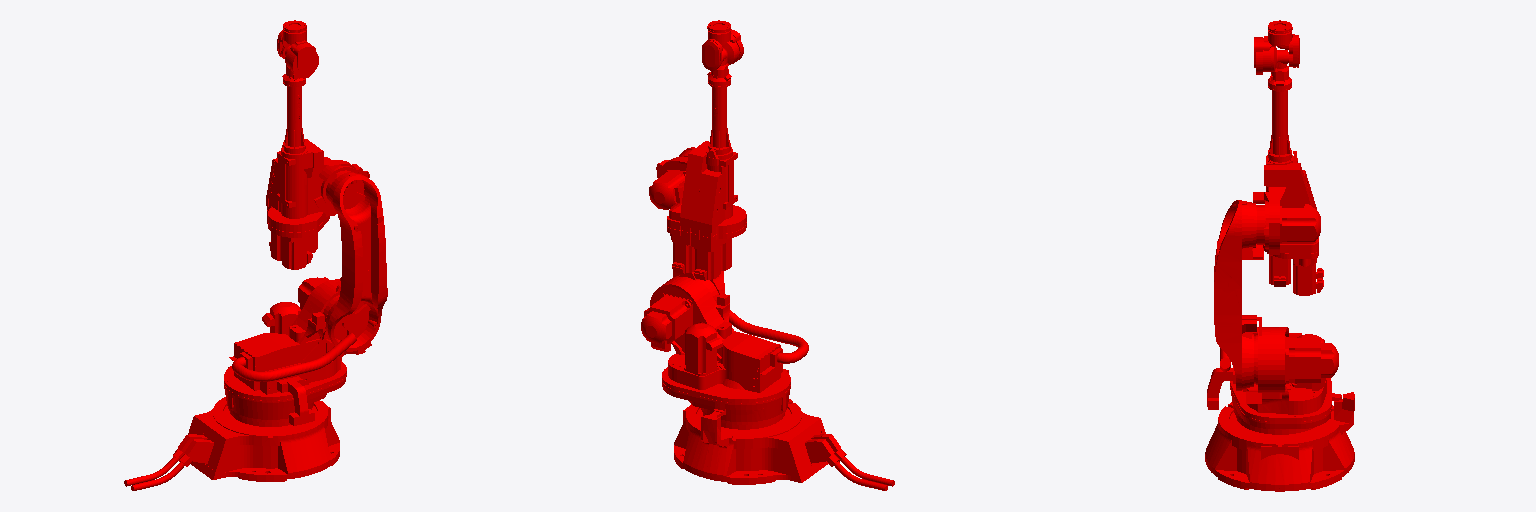
The robot description file, URDF, robot "Smart_NM45":
<?xml version="1.0" ?>
<!-- =================================================================================== -->
<!-- |    This document was autogenerated by xacro from NM45_teleop.xacro              | -->
<!-- |    EDITING THIS FILE BY HAND IS NOT RECOMMENDED                                 | -->
<!-- =================================================================================== -->
<robot name="Smart_NM45" xmlns:xacro="http://ros.org/wiki/xacro">
  <link name="base_link">
    <visual>
      <geometry>
        <mesh filename="package://comau_config/meshes/visual/NM-45_Base.STL"/>
      </geometry>
      <material name="red">
        <color rgba="1 0 0 1"/>
      </material>
    </visual>
    <collision>
      <geometry>
        <mesh filename="package://comau_config/meshes/collision/NM-45_Base_CH.STL"/>
      </geometry>
      <material name="yellow">
        <color rgba="0 1 1 1"/>
      </material>
    </collision>
  </link>
  <link name="link1">
    <visual>
      <origin rpy="0 0 0" xyz="0 0 0"/>
      <geometry>
        <mesh filename="package://comau_config/meshes/visual/NM-45_Link1.STL"/>
      </geometry>
      <material name="red">
        <color rgba="1 0 0 1"/>
      </material>
    </visual>
    <collision>
      <origin rpy="0 0 0" xyz="0 0 0"/>
      <geometry>
        <mesh filename="package://comau_config/meshes/collision/NM-45_Link1_CH.STL"/>
      </geometry>
      <material name="yellow"/>
    </collision>
  </link>
  <link name="link2">
    <visual>
      <origin rpy="0 0 0" xyz="0 0 0"/>
      <geometry>
        <mesh filename="package://comau_config/meshes/visual/NM-45_Link2.STL"/>
      </geometry>
      <material name="red"/>
    </visual>
    <collision>
      <origin rpy="0 0 0" xyz="0 0 0"/>
      <geometry>
        <mesh filename="package://comau_config/meshes/collision/NM-45_Link2_CH.STL"/>
      </geometry>
      <material name="yellow"/>
    </collision>
  </link>
  <link name="link3">
    <visual>
      <origin rpy="0 0 0" xyz="0 0 0"/>
      <geometry>
        <mesh filename="package://comau_config/meshes/visual/NM-45_Link3.STL"/>
      </geometry>
      <material name="red"/>
    </visual>
    <collision>
      <origin rpy="0 0 0" xyz="0 0 0"/>
      <geometry>
        <mesh filename="package://comau_config/meshes/collision/NM-45_Link3_CH.STL"/>
      </geometry>
      <material name="yellow"/>
    </collision>
  </link>
  <link name="link4">
    <visual>
      <origin rpy="0 0 0" xyz="0 0 0"/>
      <geometry>
        <mesh filename="package://comau_config/meshes/visual/NM-45_Link4.STL"/>
      </geometry>
      <material name="red"/>
    </visual>
    <collision>
      <origin rpy="0 0 0" xyz="0 0 0"/>
      <geometry>
        <mesh filename="package://comau_config/meshes/collision/NM-45_Link4_CH.STL"/>
      </geometry>
      <material name="yellow"/>
    </collision>
  </link>
  <link name="link5">
    <visual>
      <origin rpy="0 0 0" xyz="0 0 0"/>
      <geometry>
        <mesh filename="package://comau_config/meshes/visual/NM-45_Link5.STL"/>
      </geometry>
      <material name="red"/>
    </visual>
    <collision>
      <origin rpy="0 0 0" xyz="0 0 0"/>
      <geometry>
        <mesh filename="package://comau_config/meshes/collision/NM-45_Link5_CH.STL"/>
      </geometry>
      <material name="yellow"/>
    </collision>
  </link>
  <link name="link6">
    <visual>
      <origin rpy="0 0 0" xyz="0 0 0"/>
      <geometry>
        <mesh filename="package://comau_config/meshes/visual/NM-45_Link6.STL"/>
      </geometry>
      <material name="red"/>
    </visual>
    <collision>
      <origin rpy="0 0 0" xyz="0 0 0"/>
      <geometry>
        <mesh filename="package://comau_config/meshes/collision/NM-45_Link6_CH.STL"/>
      </geometry>
      <material name="yellow"/>
    </collision>
  </link>
  <joint name="joint1" type="revolute">
    <parent link="base_link"/>
    <child link="link1"/>
    <origin rpy="0 0 0" xyz="0 0 0.305"/>
    <axis xyz="0 0 -1"/>
    <limit effort="100" lower="-3.1416" upper="3.1416" velocity="2.26"/>
  </joint>
  <joint name="joint2" type="revolute">
    <parent link="link1"/>
    <child link="link2"/>
    <origin rpy="0 -1.57 0" xyz="0.4 -0.130 0.445"/>
    <axis xyz="0 1 0"/>
    <limit effort="100" lower="-0.733" upper="2.269" velocity="2.26"/>
  </joint>
  <joint name="joint3" type="revolute">
    <parent link="link2"/>
    <child link="link3"/>
    <origin rpy="0 0 0" xyz="0.75 0.01 0"/>
    <axis xyz="0 -1 0"/>
    <limit effort="100" lower="-2.967" upper="1.92" velocity="2.96"/>
  </joint>
  <joint name="joint4" type="revolute">
    <parent link="link3"/>
    <child link="link4"/>
    <origin rpy="0 0 0" xyz="0.234 0.120 0.250"/>
    <axis xyz="-1 0 0"/>
    <limit effort="100" lower="-3.1416" upper="3.1416" velocity="2.96"/>
  </joint>
  <joint name="joint5" type="revolute">
    <parent link="link4"/>
    <child link="link5"/>
    <origin rpy="0 0 0" xyz="0.578 0 0"/>
    <axis xyz="0 1 0"/>
    <limit effort="100" lower="-2.147" upper="2.147" velocity="3.48"/>
  </joint>
  <joint name="joint6" type="revolute">
    <parent link="link5"/>
    <child link="link6"/>
    <origin rpy="0 0 0" xyz="0.150 0 0"/>
    <axis xyz="-1 0 0"/>
    <limit effort="100" lower="-3.1416" upper="3.1416" velocity="3.48"/>
  </joint>
  <link name="finger_1_link_0">
    <visual>
      <origin rpy="0 0 0" xyz="0.020 0 0"/>
      <geometry>
        <mesh filename="package://robotiq/meshes/s-model_articulated/visual/link_0.STL"/>
      </geometry>
      <material name="green">
        <color rgba="0 1 0 1"/>
      </material>
    </visual>
    <collision>
      <origin rpy="0 3.1416 -1.57" xyz="-0.0455 0.0414 0.036"/>
      <geometry>
        <mesh filename="package://robotiq/meshes/s-model_articulated/collision/link_0.STL"/>
      </geometry>
      <material name="yellow">
        <color rgba="0 1 1 1"/>
      </material>
    </collision>
  </link>
  <link name="finger_1_link_1">
    <visual>
      <origin rpy="0 0 -0.52" xyz="0.050 -.028 0"/>
      <geometry>
        <mesh filename="package://robotiq/meshes/s-model_articulated/visual/link_1.STL"/>
      </geometry>
      <material name="green"/>
    </visual>
    <collision>
      <origin rpy="0 0 -0.52" xyz="0.050 -.028 0"/>
      <geometry>
        <mesh filename="package://robotiq/meshes/s-model_articulated/collision/link_1.STL"/>
      </geometry>
      <material name="yellow"/>
    </collision>
  </link>
  <link name="finger_1_link_2">
    <!--
			NOTE: This link has an offset in the z-direction based on the models that were
			used to generate grap-it poses.  With the offset below the model appears visually
			correct, but it is suspect.
			-->
    <visual>
      <origin rpy="0 0 0" xyz="0.039 0 0.0075"/>
      <geometry>
        <mesh filename="package://robotiq/meshes/s-model_articulated/visual/link_2.STL"/>
      </geometry>
      <material name="green"/>
    </visual>
    <collision>
      <origin rpy="0 0 0" xyz="0.039 0 0.0075"/>
      <geometry>
        <mesh filename="package://robotiq/meshes/s-model_articulated/collision/link_2.STL"/>
      </geometry>
      <material name="yellow"/>
    </collision>
  </link>
  <link name="finger_1_link_3">
    <visual>
      <origin rpy="0 0 0.52" xyz="0 0 0"/>
      <geometry>
        <mesh filename="package://robotiq/meshes/s-model_articulated/visual/link_3.STL"/>
      </geometry>
      <material name="green"/>
    </visual>
    <collision>
      <origin rpy="0 0 0.52" xyz="0 0 0"/>
      <geometry>
        <mesh filename="package://robotiq/meshes/s-model_articulated/collision/link_3.STL"/>
      </geometry>
      <material name="yellow"/>
    </collision>
  </link>
  <joint name="finger_1_joint_1" type="revolute">
    <parent link="finger_1_link_0"/>
    <child link="finger_1_link_1"/>
    <axis xyz="0 0 1"/>
    <origin rpy="0 0 0" xyz="0.020 0 0"/>
    <limit effort="100" lower="0" upper="3.1416" velocity="100"/>
  </joint>
  <joint name="finger_1_joint_2" type="revolute">
    <parent link="finger_1_link_1"/>
    <child link="finger_1_link_2"/>
    <axis xyz="0 0 1"/>
    <origin rpy="0 0 -0.52" xyz="0.050 -.028 0"/>
    <limit effort="100" lower="0" upper="3.1416" velocity="100"/>
  </joint>
  <joint name="finger_1_joint_3" type="revolute">
    <parent link="finger_1_link_2"/>
    <child link="finger_1_link_3"/>
    <axis xyz="0 0 1"/>
    <origin rpy="0 0 0" xyz="0.039 0 0"/>
    <limit effort="100" lower="0" upper="3.1416" velocity="100"/>
  </joint>
  <link name="finger_2_link_0">
    <visual>
      <origin rpy="0 0 0" xyz="0.020 0 0"/>
      <geometry>
        <mesh filename="package://robotiq/meshes/s-model_articulated/visual/link_0.STL"/>
      </geometry>
      <material name="green">
        <color rgba="0 1 0 1"/>
      </material>
    </visual>
    <collision>
      <origin rpy="0 3.1416 -1.57" xyz="-0.0455 0.0414 0.036"/>
      <geometry>
        <mesh filename="package://robotiq/meshes/s-model_articulated/collision/link_0.STL"/>
      </geometry>
      <material name="yellow">
        <color rgba="0 1 1 1"/>
      </material>
    </collision>
  </link>
  <link name="finger_2_link_1">
    <visual>
      <origin rpy="0 0 -0.52" xyz="0.050 -.028 0"/>
      <geometry>
        <mesh filename="package://robotiq/meshes/s-model_articulated/visual/link_1.STL"/>
      </geometry>
      <material name="green"/>
    </visual>
    <collision>
      <origin rpy="0 0 -0.52" xyz="0.050 -.028 0"/>
      <geometry>
        <mesh filename="package://robotiq/meshes/s-model_articulated/collision/link_1.STL"/>
      </geometry>
      <material name="yellow"/>
    </collision>
  </link>
  <link name="finger_2_link_2">
    <!--
			NOTE: This link has an offset in the z-direction based on the models that were
			used to generate grap-it poses.  With the offset below the model appears visually
			correct, but it is suspect.
			-->
    <visual>
      <origin rpy="0 0 0" xyz="0.039 0 0.0075"/>
      <geometry>
        <mesh filename="package://robotiq/meshes/s-model_articulated/visual/link_2.STL"/>
      </geometry>
      <material name="green"/>
    </visual>
    <collision>
      <origin rpy="0 0 0" xyz="0.039 0 0.0075"/>
      <geometry>
        <mesh filename="package://robotiq/meshes/s-model_articulated/collision/link_2.STL"/>
      </geometry>
      <material name="yellow"/>
    </collision>
  </link>
  <link name="finger_2_link_3">
    <visual>
      <origin rpy="0 0 0.52" xyz="0 0 0"/>
      <geometry>
        <mesh filename="package://robotiq/meshes/s-model_articulated/visual/link_3.STL"/>
      </geometry>
      <material name="green"/>
    </visual>
    <collision>
      <origin rpy="0 0 0.52" xyz="0 0 0"/>
      <geometry>
        <mesh filename="package://robotiq/meshes/s-model_articulated/collision/link_3.STL"/>
      </geometry>
      <material name="yellow"/>
    </collision>
  </link>
  <joint name="finger_2_joint_1" type="revolute">
    <parent link="finger_2_link_0"/>
    <child link="finger_2_link_1"/>
    <axis xyz="0 0 1"/>
    <origin rpy="0 0 0" xyz="0.020 0 0"/>
    <limit effort="100" lower="0" upper="3.1416" velocity="100"/>
  </joint>
  <joint name="finger_2_joint_2" type="revolute">
    <parent link="finger_2_link_1"/>
    <child link="finger_2_link_2"/>
    <axis xyz="0 0 1"/>
    <origin rpy="0 0 -0.52" xyz="0.050 -.028 0"/>
    <limit effort="100" lower="0" upper="3.1416" velocity="100"/>
  </joint>
  <joint name="finger_2_joint_3" type="revolute">
    <parent link="finger_2_link_2"/>
    <child link="finger_2_link_3"/>
    <axis xyz="0 0 1"/>
    <origin rpy="0 0 0" xyz="0.039 0 0"/>
    <limit effort="100" lower="0" upper="3.1416" velocity="100"/>
  </joint>
  <link name="finger_middle_link_0">
    <visual>
      <origin rpy="0 0 0" xyz="0.020 0 0"/>
      <geometry>
        <mesh filename="package://robotiq/meshes/s-model_articulated/visual/link_0.STL"/>
      </geometry>
      <material name="green">
        <color rgba="0 1 0 1"/>
      </material>
    </visual>
    <collision>
      <origin rpy="0 3.1416 -1.57" xyz="-0.0455 0.0414 0.036"/>
      <geometry>
        <mesh filename="package://robotiq/meshes/s-model_articulated/collision/link_0.STL"/>
      </geometry>
      <material name="yellow">
        <color rgba="0 1 1 1"/>
      </material>
    </collision>
  </link>
  <link name="finger_middle_link_1">
    <visual>
      <origin rpy="0 0 -0.52" xyz="0.050 -.028 0"/>
      <geometry>
        <mesh filename="package://robotiq/meshes/s-model_articulated/visual/link_1.STL"/>
      </geometry>
      <material name="green"/>
    </visual>
    <collision>
      <origin rpy="0 0 -0.52" xyz="0.050 -.028 0"/>
      <geometry>
        <mesh filename="package://robotiq/meshes/s-model_articulated/collision/link_1.STL"/>
      </geometry>
      <material name="yellow"/>
    </collision>
  </link>
  <link name="finger_middle_link_2">
    <!--
			NOTE: This link has an offset in the z-direction based on the models that were
			used to generate grap-it poses.  With the offset below the model appears visually
			correct, but it is suspect.
			-->
    <visual>
      <origin rpy="0 0 0" xyz="0.039 0 0.0075"/>
      <geometry>
        <mesh filename="package://robotiq/meshes/s-model_articulated/visual/link_2.STL"/>
      </geometry>
      <material name="green"/>
    </visual>
    <collision>
      <origin rpy="0 0 0" xyz="0.039 0 0.0075"/>
      <geometry>
        <mesh filename="package://robotiq/meshes/s-model_articulated/collision/link_2.STL"/>
      </geometry>
      <material name="yellow"/>
    </collision>
  </link>
  <link name="finger_middle_link_3">
    <visual>
      <origin rpy="0 0 0.52" xyz="0 0 0"/>
      <geometry>
        <mesh filename="package://robotiq/meshes/s-model_articulated/visual/link_3.STL"/>
      </geometry>
      <material name="green"/>
    </visual>
    <collision>
      <origin rpy="0 0 0.52" xyz="0 0 0"/>
      <geometry>
        <mesh filename="package://robotiq/meshes/s-model_articulated/collision/link_3.STL"/>
      </geometry>
      <material name="yellow"/>
    </collision>
  </link>
  <joint name="finger_middle_joint_1" type="revolute">
    <parent link="finger_middle_link_0"/>
    <child link="finger_middle_link_1"/>
    <axis xyz="0 0 1"/>
    <origin rpy="0 0 0" xyz="0.020 0 0"/>
    <limit effort="100" lower="0" upper="3.1416" velocity="100"/>
  </joint>
  <joint name="finger_middle_joint_2" type="revolute">
    <parent link="finger_middle_link_1"/>
    <child link="finger_middle_link_2"/>
    <axis xyz="0 0 1"/>
    <origin rpy="0 0 -0.52" xyz="0.050 -.028 0"/>
    <limit effort="100" lower="0" upper="3.1416" velocity="100"/>
  </joint>
  <joint name="finger_middle_joint_3" type="revolute">
    <parent link="finger_middle_link_2"/>
    <child link="finger_middle_link_3"/>
    <axis xyz="0 0 1"/>
    <origin rpy="0 0 0" xyz="0.039 0 0"/>
    <limit effort="100" lower="0" upper="3.1416" velocity="100"/>
  </joint>
  <link name="palm">
    <visual>
      <geometry>
        <mesh filename="package://robotiq/meshes/s-model_articulated/visual/palm.STL"/>
      </geometry>
      <material name="green">
        <color rgba="0 1 0 1"/>
      </material>
    </visual>
    <collision>
      <geometry>
        <mesh filename="package://robotiq/meshes/s-model_articulated/collision/palm.STL"/>
      </geometry>
      <material name="yellow">
        <color rgba="0 1 1 1"/>
      </material>
    </collision>
  </link>
  <joint name="palm_finger_1_joint" type="revolute">
    <parent link="palm"/>
    <child link="finger_1_link_0"/>
    <axis xyz="0 1 0"/>
    <origin rpy="0 3.1416 -1.57" xyz="-0.0455 0.0214 0.036"/>
    <limit effort="100" lower="-0.16" upper="0.25" velocity="100"/>
  </joint>
  <joint name="palm_finger_2_joint" type="revolute">
    <parent link="palm"/>
    <child link="finger_2_link_0"/>
    <axis xyz="0 1 0"/>
    <origin rpy="0 3.1416 -1.57" xyz="-0.0455 0.0214 -0.036"/>
    <limit effort="100" lower="-0.25" upper="0.16" velocity="100"/>
  </joint>
  <joint name="palm_finger_middle_joint" type="fixed">
    <parent link="palm"/>
    <child link="finger_middle_link_0"/>
    <axis xyz="0 0 1"/>
    <origin rpy="0 0 1.57" xyz="0.0455 0.0214 0"/>
  </joint>
  <!-- link list -->
  <link name="eff_stack">
    <visual>
      <geometry>
        <mesh filename="package://comau_config/meshes/visual/Effector_stack.STL"/>
      </geometry>
      <material name="orange">
        <color rgba="1 0.5 0 1"/>
      </material>
    </visual>
    <collision>
      <geometry>
        <mesh filename="package://comau_config/meshes/collision/Effector_stack_CH.STL"/>
      </geometry>
      <material name="yellow">
        <color rgba="0 1 1 1"/>
      </material>
    </collision>
  </link>
  <!-- end link list -->
  <!-- joint list -->
  <joint name="flange2stack" type="fixed">
    <parent link="link6"/>
    <child link="eff_stack"/>
    <origin rpy="0 1.57 0" xyz="0.025 0 0"/>
  </joint>
  <joint name="stack2hand" type="fixed">
    <parent link="eff_stack"/>
    <child link="palm"/>
    <origin rpy="1.57 0 0" xyz="0 0 0.2123"/>
  </joint>
  <!-- end of joint list -->
</robot>

--- What the picture shows (computed from the rendered views, not written in the file) ---
3 views of the same robot in one strip: view 1: azimuth 30°, elevation 25°; view 2: azimuth 150°, elevation 25°; view 3: azimuth 270°, elevation 25° (orthographic).
Robot: Smart_NM45 — 21 links, 20 joints (17 revolute, 3 fixed); root link base_link; default pose: all joints at 0.
Visible links, largest first — view 1: link1, base_link, link2, link3, link4, link5; view 2: link1, base_link, link3, link4, link5; view 3: base_link, link1, link3, link2, link4, link5.
Boxes of the visible links, x1,y1,x2,y2 form: link1: (224, 277, 371, 425); base_link: (124, 367, 339, 490); link2: (326, 172, 387, 351); link3: (266, 139, 369, 269); link4: (282, 46, 305, 153); link5: (277, 29, 318, 78); link1: (641, 272, 808, 424); base_link: (674, 399, 894, 490); link3: (649, 141, 746, 280); link4: (707, 41, 739, 154); link5: (702, 29, 743, 70); base_link: (1205, 392, 1354, 491); link1: (1207, 317, 1341, 429); link3: (1253, 151, 1323, 295); link2: (1214, 200, 1263, 390); link4: (1263, 46, 1291, 162); link5: (1254, 30, 1299, 74).
Bounding box of the posed robot: 1.46 × 0.75 × 2.49 m (x, y, z).
7 mesh visuals loaded from 13 distinct referenced files (7 binary STL); not drawn: 14 (reference not matched to a file when rendering).